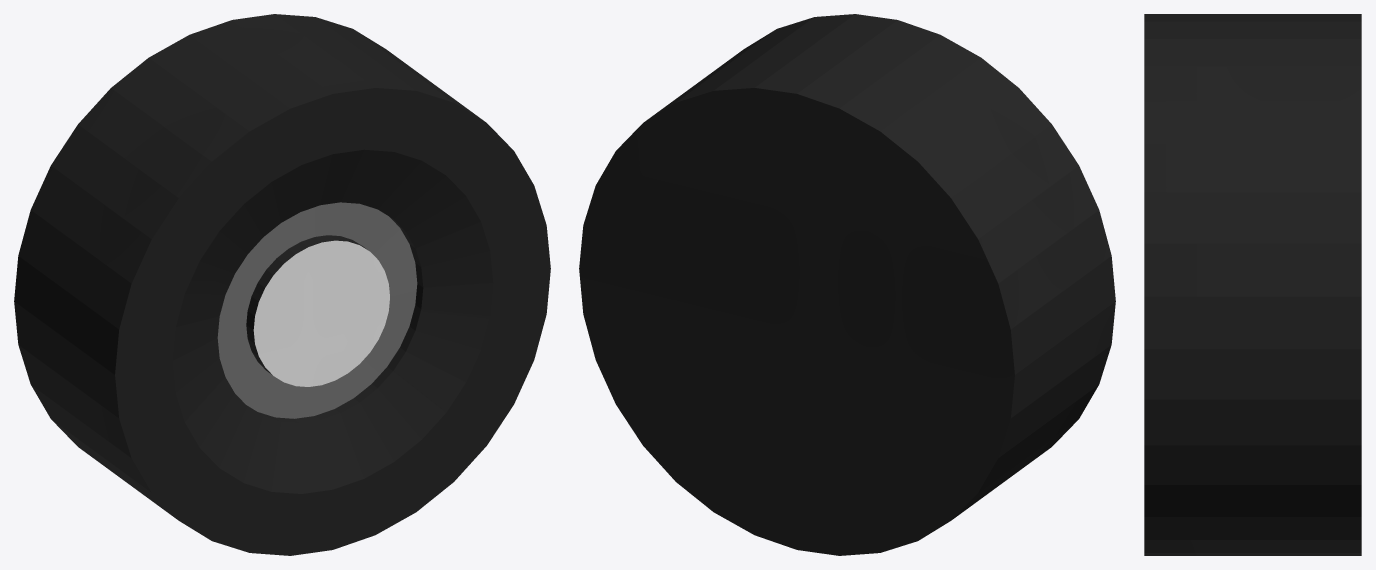
File: teker.fbx
3 views of the same model, side by side, from view 1: azimuth 30°, elevation 25°; view 2: azimuth 150°, elevation 25°; view 3: azimuth 270°, elevation 25° (orthographic). The views are drawn at different scales.
Parts seen in each view (by area): view 1: Cylinder; view 2: Cylinder; view 3: Cylinder.
Boxes of the visible parts, x1,y1,x2,y2 form: Cylinder: (14, 14, 550, 555); Cylinder: (579, 14, 1115, 555); Cylinder: (1144, 14, 1361, 555).
Bounding box in the file's own units: 200 × 200 × 80.21.
